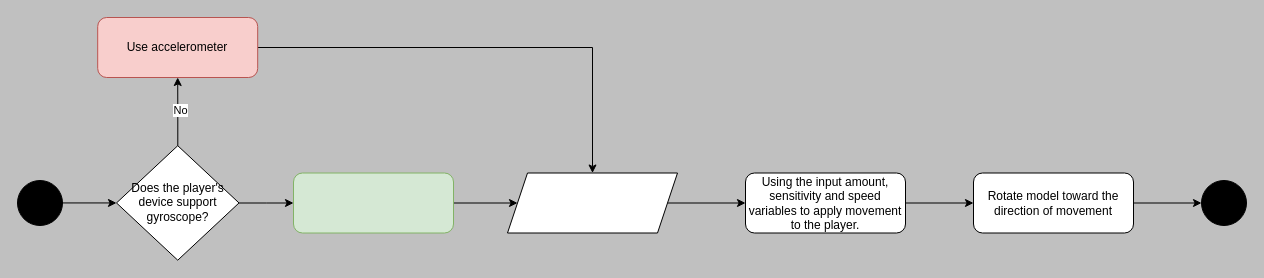
This 1264x278 diagram has some shape labels left out. The centre of each missing label's shape, as x and y in pixels:
"Player Input" belongs at (592,202).
"Use Gyroscope" belongs at (373,202).
